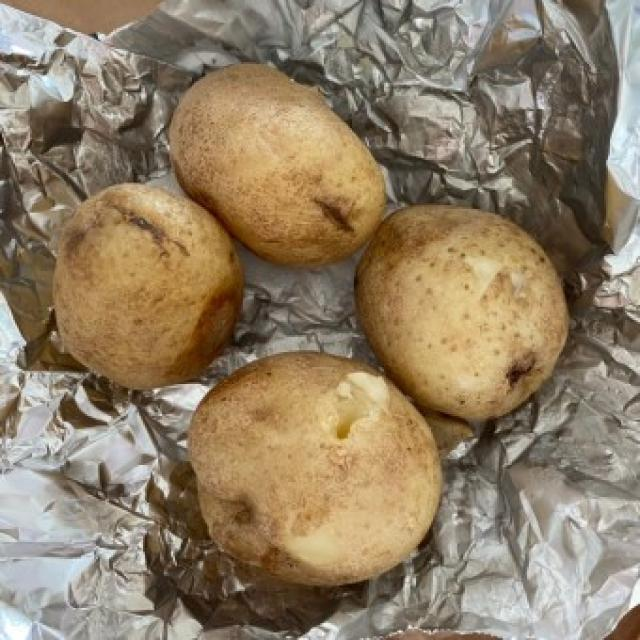potato: (186, 354, 447, 586), (356, 190, 575, 424), (168, 54, 387, 270), (52, 184, 248, 390)
